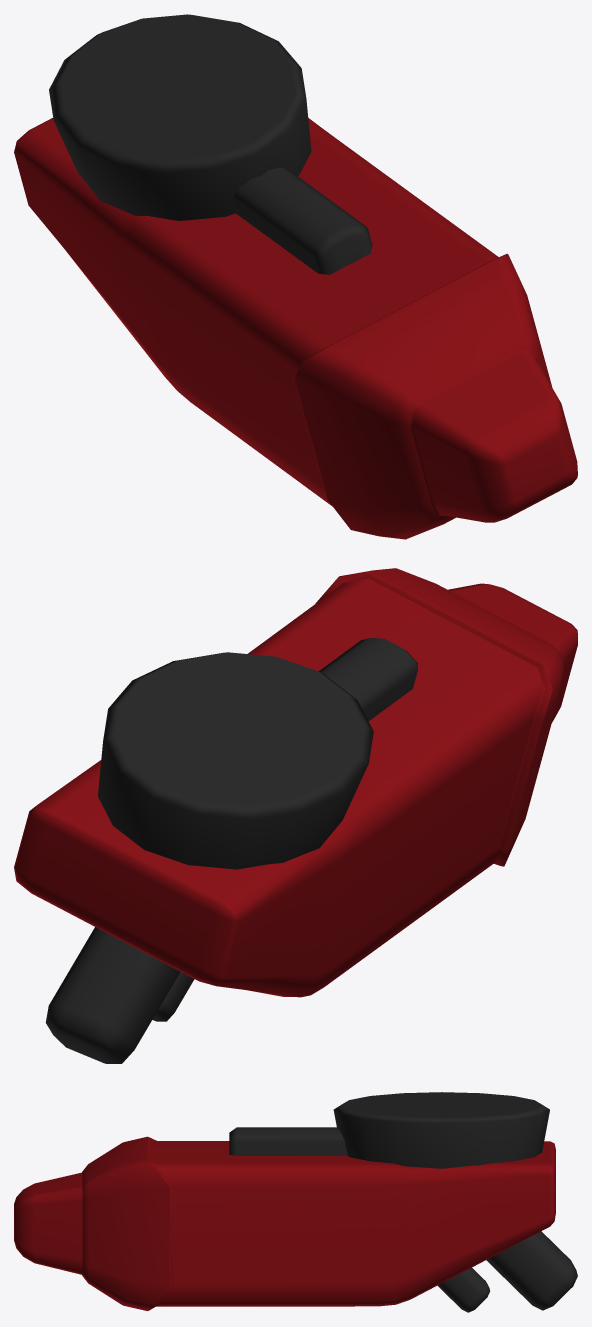
File: Ship_Boos_01_Weapon_R_01.fbx
3 renders of one model, top to bottom at view 1: azimuth 30°, elevation 25°; view 2: azimuth 150°, elevation 25°; view 3: azimuth 270°, elevation 25°, orthographic. The views are drawn at different scales.
Parts seen in each view (by area): view 1: Ship_Boos_01_Weapon_R_01; view 2: Ship_Boos_01_Weapon_R_01; view 3: Ship_Boos_01_Weapon_R_01.
Part boxes in pixels (x1=…): Ship_Boos_01_Weapon_R_01: x1=14, y1=14, x2=577, y2=539; Ship_Boos_01_Weapon_R_01: x1=14, y1=568, x2=577, y2=1063; Ship_Boos_01_Weapon_R_01: x1=14, y1=1092, x2=577, y2=1312.
Size of the model in its own units: 211 by 236 by 584.
